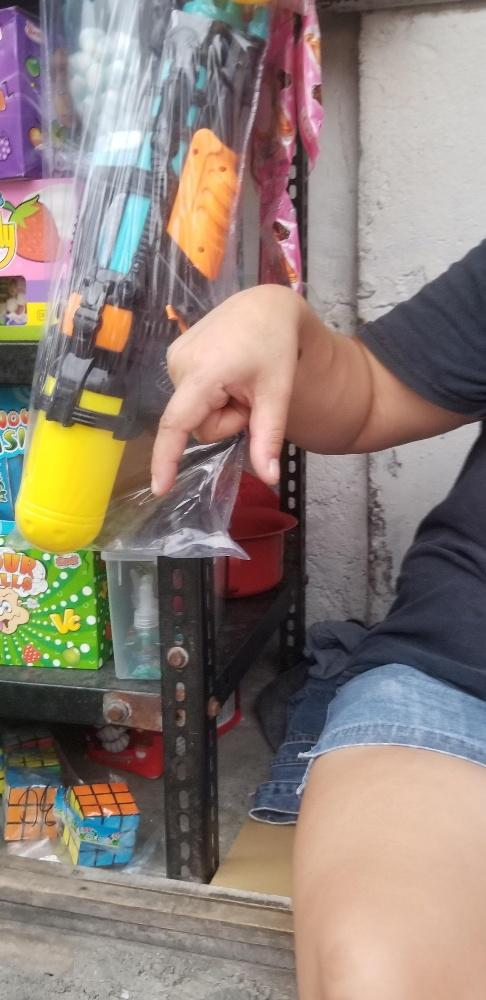q: (145, 281, 296, 493)
